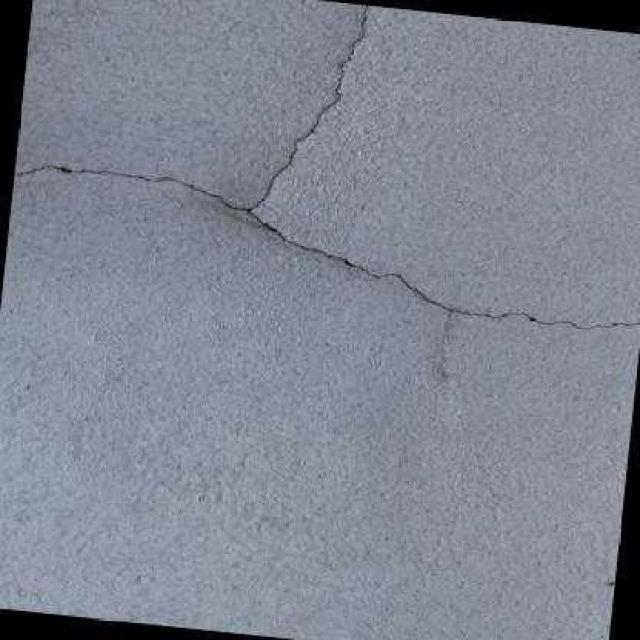D00: (14, 3, 640, 328)
